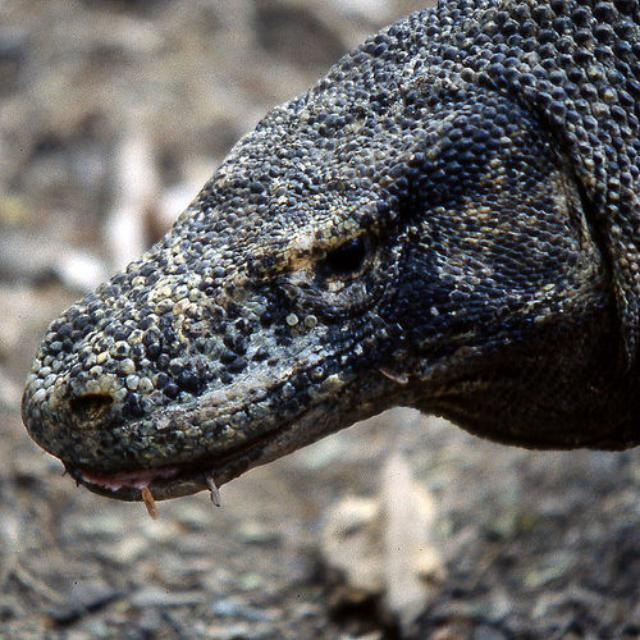KomodoDragon: (15, 0, 634, 524)
